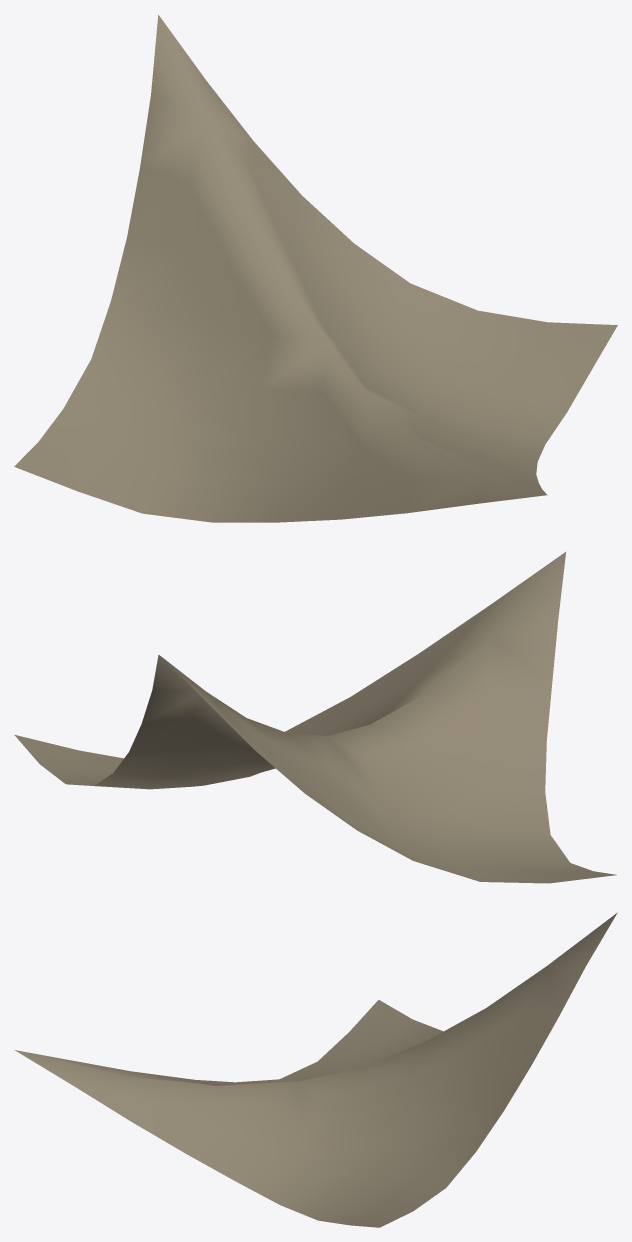
Rendered from savHubTent1.fbx.
3 views of the same model, one above another, from view 1: azimuth 30°, elevation 25°; view 2: azimuth 150°, elevation 25°; view 3: azimuth 270°, elevation 25° (orthographic). The views are drawn at different scales.
Visible parts, largest first — view 1: savHubTent1_LOD0; view 2: savHubTent1_LOD0; view 3: savHubTent1_LOD0.
Part boxes in pixels (x1,y1,x2,y2): savHubTent1_LOD0: [14, 15, 617, 522]; savHubTent1_LOD0: [14, 552, 616, 883]; savHubTent1_LOD0: [14, 912, 617, 1227].
Size of what is drawn, in the model's own units: 1324 by 642 by 1513.
